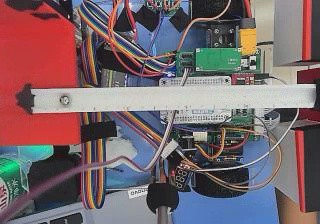ironball: (58, 95, 68, 104)
